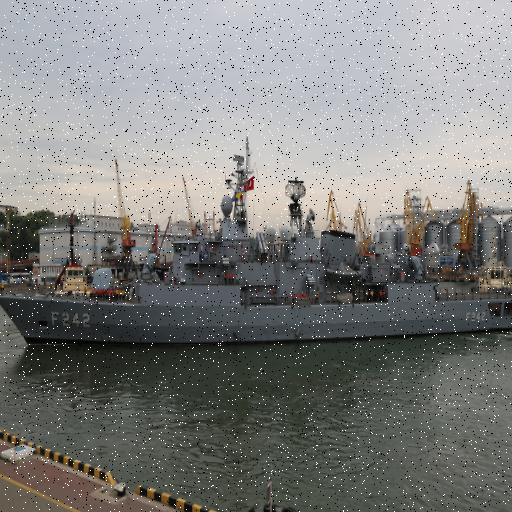Fragata: (1, 141, 512, 360)
